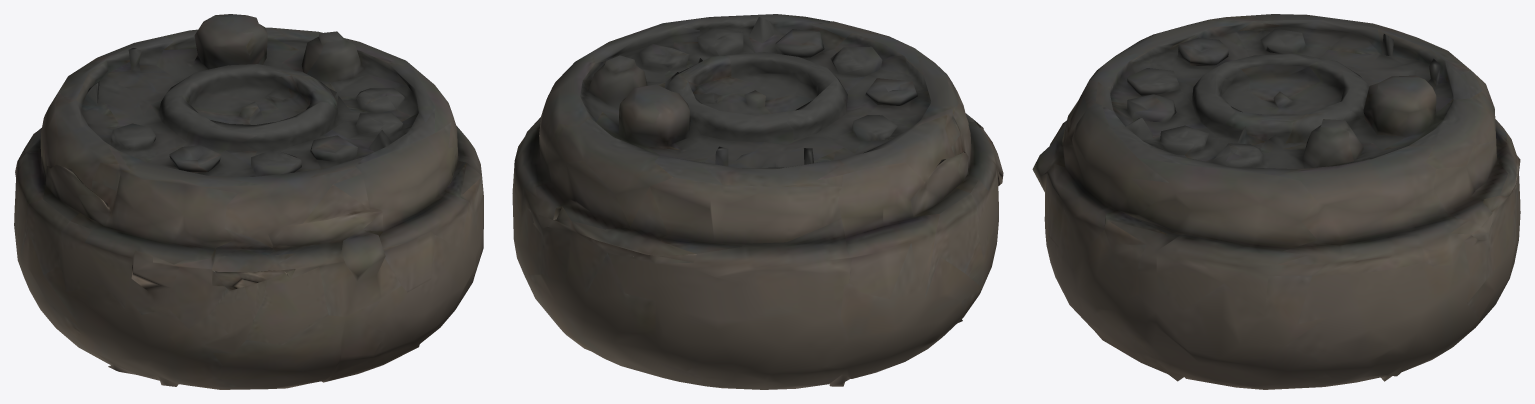
The model's file is tripo_pot.glb.
3 renders of one model, left to right at view 1: azimuth 30°, elevation 25°; view 2: azimuth 150°, elevation 25°; view 3: azimuth 270°, elevation 25°, orthographic. The views are drawn at different scales.
Parts seen in each view (by area): view 1: tripo_node_0179face-6ed3-49f4-bb42-f501ffc2ff7a; view 2: tripo_node_0179face-6ed3-49f4-bb42-f501ffc2ff7a; view 3: tripo_node_0179face-6ed3-49f4-bb42-f501ffc2ff7a.
Part boxes in pixels (<box>): tripo_node_0179face-6ed3-49f4-bb42-f501ffc2ff7a: <box>14,14,483,389</box>; tripo_node_0179face-6ed3-49f4-bb42-f501ffc2ff7a: <box>512,14,1003,389</box>; tripo_node_0179face-6ed3-49f4-bb42-f501ffc2ff7a: <box>1032,14,1520,389</box>.
Bounding box in the file's own units: 0.9903 × 0.6017 × 1.
Materials: 1 (1 with a texture image).
